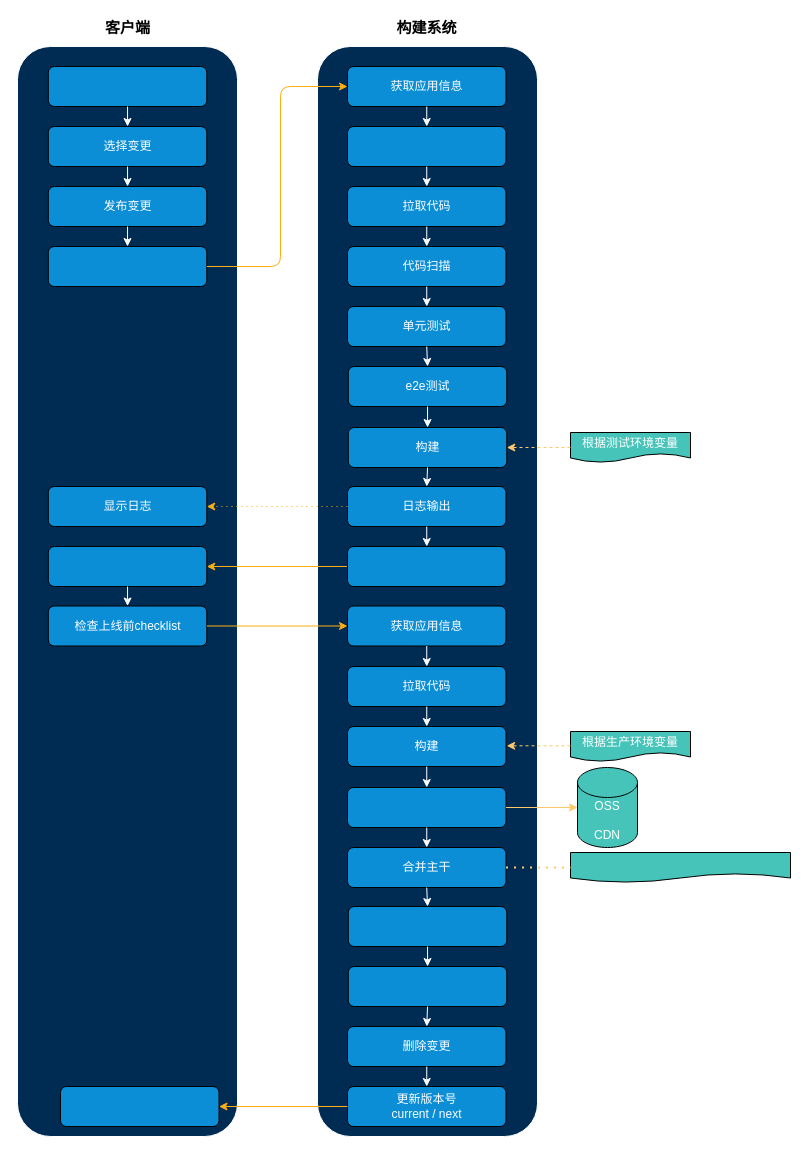
The diagram is 808 pixels wide and 1154 high, and some of its shapes have lost their labels. Each missing label, with the centre of its shape:
"release/timespan_random -> master" goes at [680,867].
"保存发布记录" goes at [427,926].
"创建发布分支 release/timespan_random" goes at [127,266].
"删除发布分支 release/timespan_random" goes at [427,986].
"发到正式环境" goes at [426,807].
"发布完成" goes at [139,1106].
"发布预发环境" goes at [426,566].
"手动确认通过" goes at [127,566].
"校验权限？" goes at [426,146].
"选择应用" goes at [127,86].
